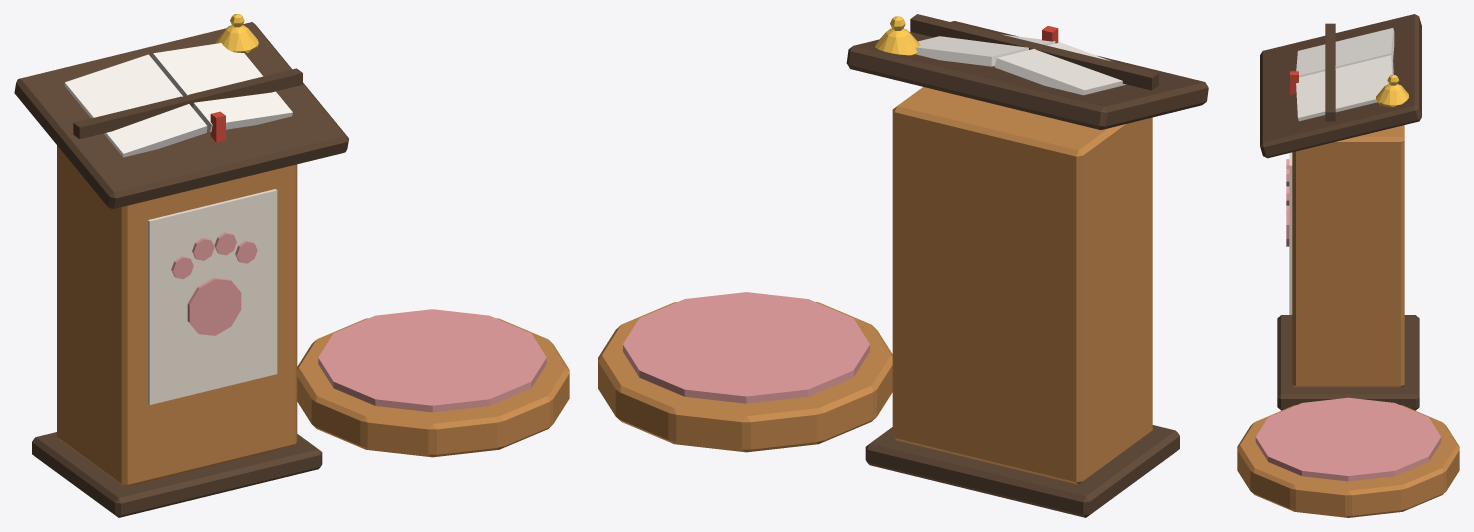
File: CatCafe_Furniture_GreeterPodium.glb
3 renders of one model, left to right at view 1: azimuth 30°, elevation 25°; view 2: azimuth 150°, elevation 25°; view 3: azimuth 270°, elevation 25°, orthographic. The views are drawn at different scales.
Visible parts, largest first — view 1: CatCafe_Furniture_GreeterPodium; view 2: CatCafe_Furniture_GreeterPodium; view 3: CatCafe_Furniture_GreeterPodium.
Boxes of the visible parts, x1=… form: CatCafe_Furniture_GreeterPodium: x1=14, y1=14, x2=569, y2=517; CatCafe_Furniture_GreeterPodium: x1=598, y1=14, x2=1208, y2=517; CatCafe_Furniture_GreeterPodium: x1=1237, y1=14, x2=1459, y2=517.
Bounding box in the file's own units: 3.09 × 2.44 × 1.49.
1 material, 1 textured.
